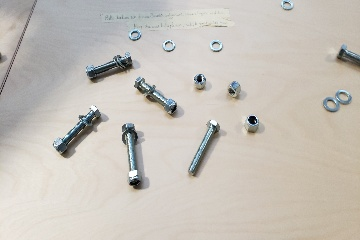Bolt: (186, 117, 224, 178)
FalseAssembly: (48, 100, 108, 158), (120, 122, 146, 186)
FinishedAssembly: (131, 75, 181, 119), (83, 49, 137, 80)
Nut: (224, 79, 244, 98), (243, 114, 262, 133), (190, 72, 208, 90)
Washer: (320, 93, 341, 114), (335, 88, 353, 106), (208, 38, 225, 52), (161, 40, 177, 53), (127, 30, 143, 41), (280, 1, 295, 11)
